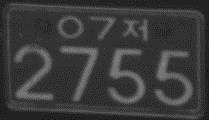0: (56, 14, 85, 40)
2: (13, 42, 54, 102)
5: (153, 48, 194, 106), (107, 46, 146, 104)
7: (57, 43, 100, 102), (89, 14, 117, 40)
저: (121, 17, 149, 42)
